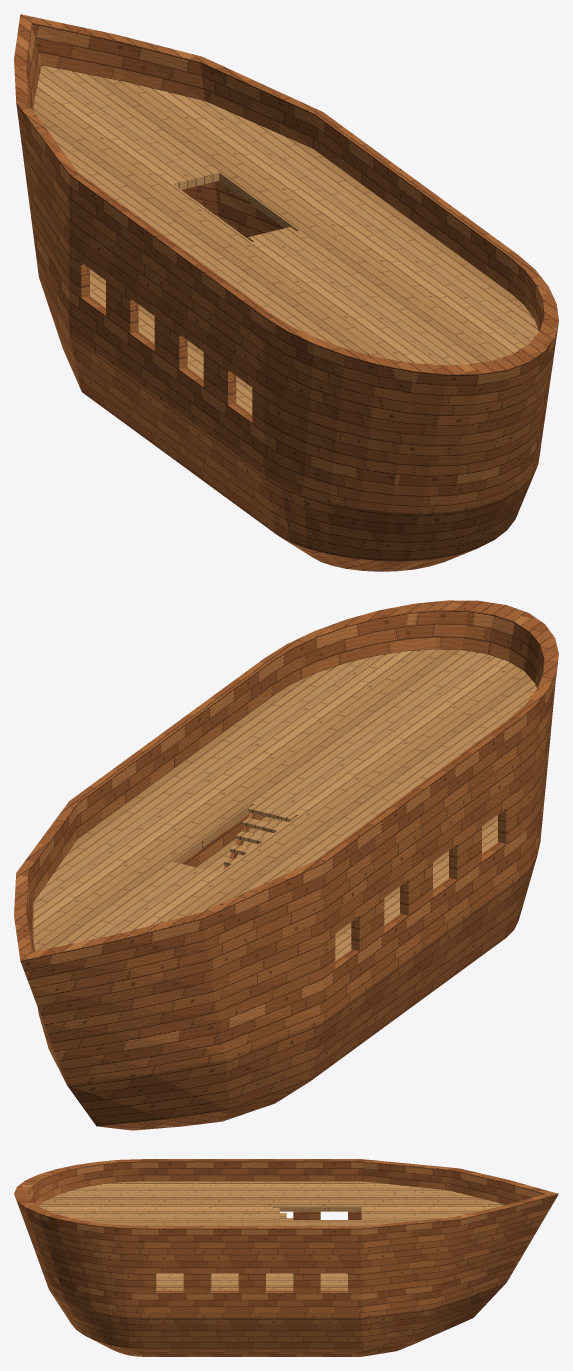
File: double_deck.glb
3 views of the same model, one above another, from view 1: azimuth 30°, elevation 25°; view 2: azimuth 150°, elevation 25°; view 3: azimuth 270°, elevation 25° (orthographic). The views are drawn at different scales.
Visible parts, largest first — view 1: double_deck; view 2: double_deck; view 3: double_deck.
Boxes of the visible parts, x1,y1,x2,y2 form: double_deck: (14,14,558,571); double_deck: (14,600,558,1130); double_deck: (14,1159,558,1356).
Bounding box in the file's own units: 6 × 6 × 19.9.
Materials: 2 (2 with a texture image).
